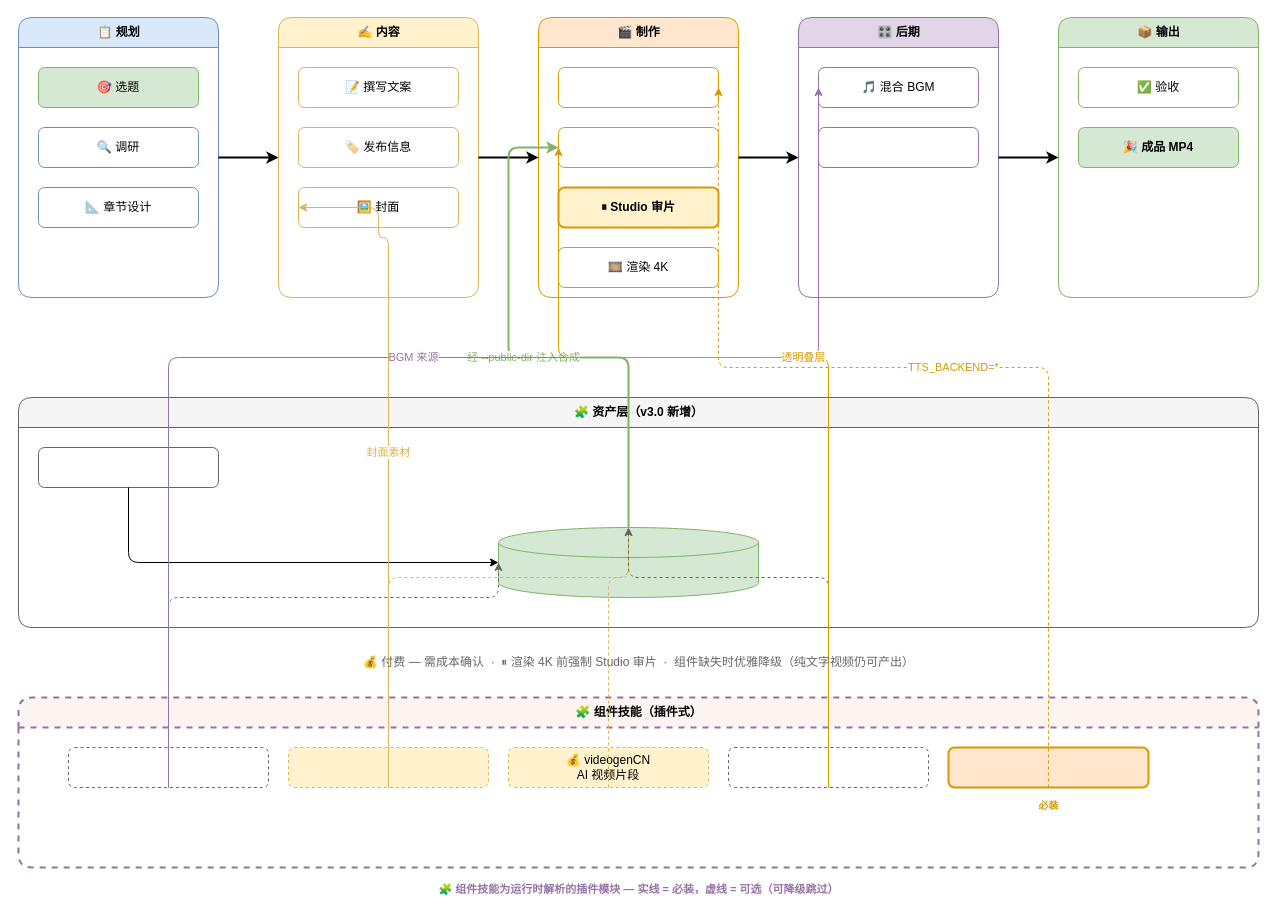
Image size: 1276x919. Some labels were removed from this diagram. Each missing label, with the centre of its shape:
⚛️ Remotion 合成: the point at 638,147
🌈 hyperframes 透明叠加动画: the point at 828,767
🎙️ TTS 配音: the point at 638,87
🎙️ ttsCN TTS 引擎，11 平台: the point at 1048,767
💰 imagenCN AI 图像/封面: the point at 388,767
📁 用户文件: the point at 128,467
📜 字幕: the point at 898,147
🔎 assetSeeker 素材检索（图库/BGM）: the point at 168,767
🗂️ assets/manifest.json 角色 · 来源 · 许可 · 状态: the point at 628,562
